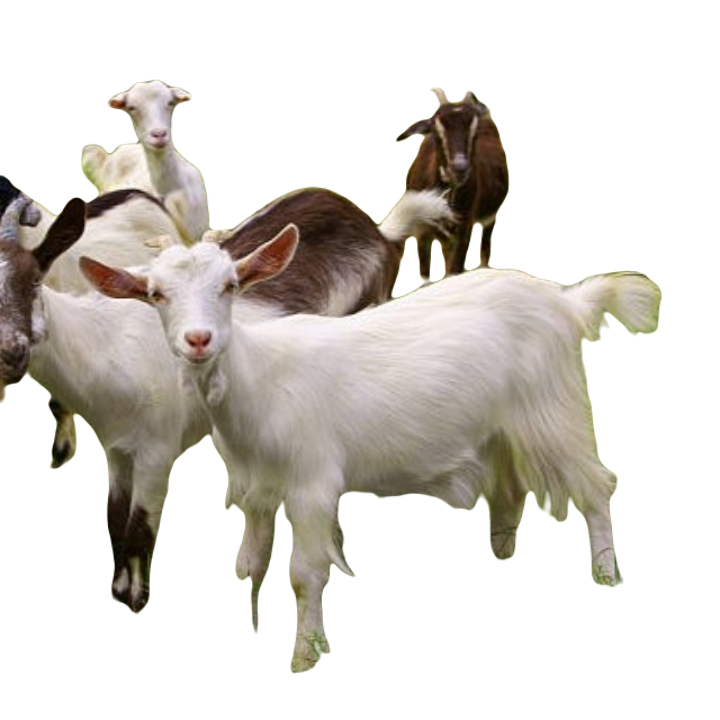Goat: (76, 225, 659, 673)
